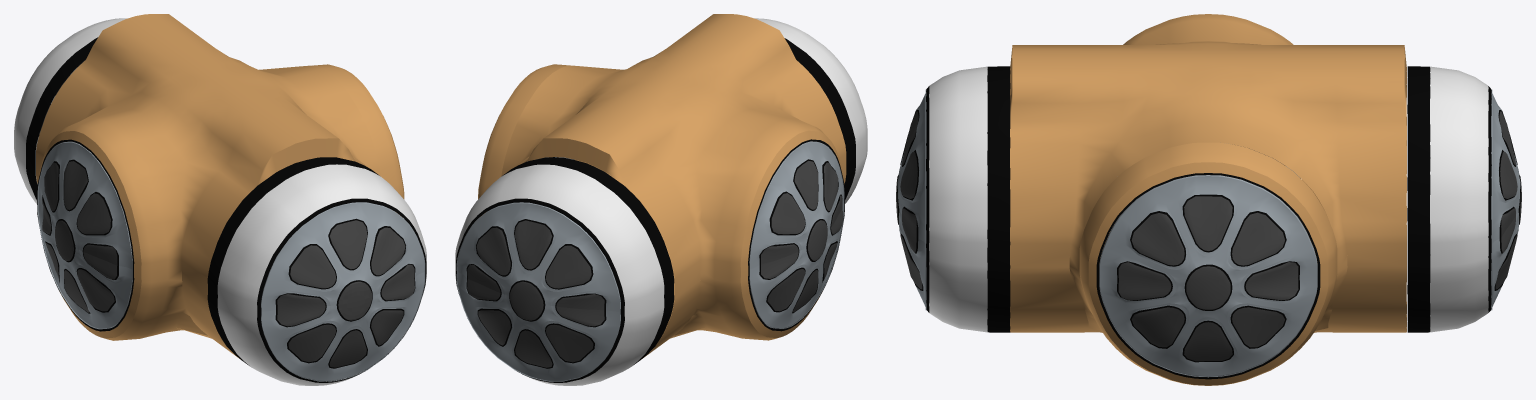
Rendered from WorldViewExterior.FBX.
3 renders of one model, left to right at view 1: azimuth 30°, elevation 25°; view 2: azimuth 150°, elevation 25°; view 3: azimuth 270°, elevation 25°, orthographic. The views are drawn at different scales.
Parts seen in each view (by area): view 1: capsuel1, window_low1_06, window_outerFrame_1, window_low1_01, window_outerFrame_4; view 2: capsuel1, window_low1_07, window_outerFrame_4, window_low1_01, window_outerFrame_1; view 3: capsuel1, window_low1_05, window_outerFrame_4, window_outerFrame_1, window_low1_07, window_low1_06.
Part boxes in pixels (x1,y1,x2,y2): capsuel1: (36, 14, 404, 359); window_low1_06: (261, 202, 425, 381); window_outerFrame_1: (207, 157, 426, 385); window_low1_01: (37, 141, 132, 329); window_outerFrame_4: (14, 18, 127, 203); capsuel1: (478, 14, 846, 359); window_low1_07: (456, 202, 620, 381); window_outerFrame_4: (455, 157, 674, 385); window_low1_01: (749, 141, 844, 328); window_outerFrame_1: (754, 18, 867, 203); capsuel1: (1010, 14, 1406, 385); window_low1_05: (1099, 175, 1317, 377); window_outerFrame_4: (1407, 66, 1491, 332); window_outerFrame_1: (926, 66, 1010, 332); window_low1_07: (1491, 89, 1521, 310); window_low1_06: (896, 90, 926, 310).
Bounding box in the file's own units: 36.6 × 25.34 × 54.38.
